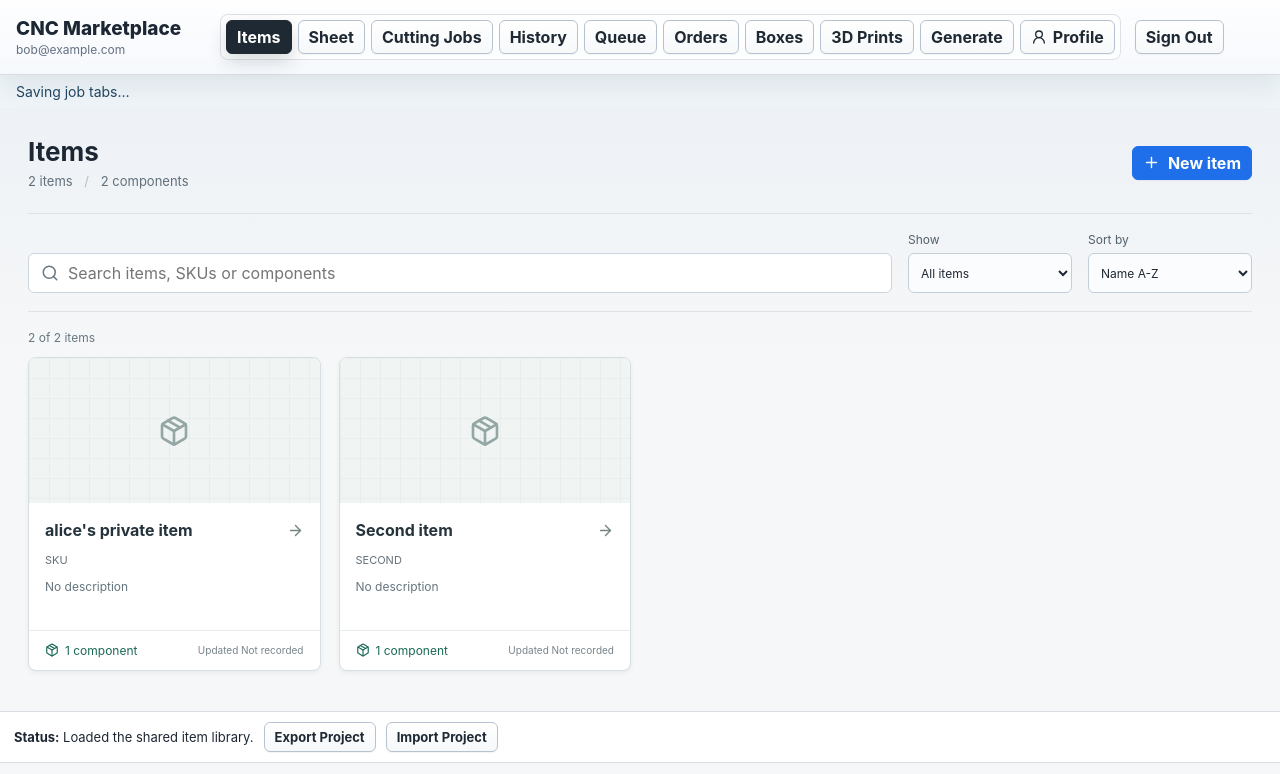
Scenario: account switching › opens and edits a shared item and adds its components to another user’s sheet
The width and height of the screenshot is (1280, 774).
Click the button with aria-label "Open alice's private item" at (174, 431), box [28,357,320,671]
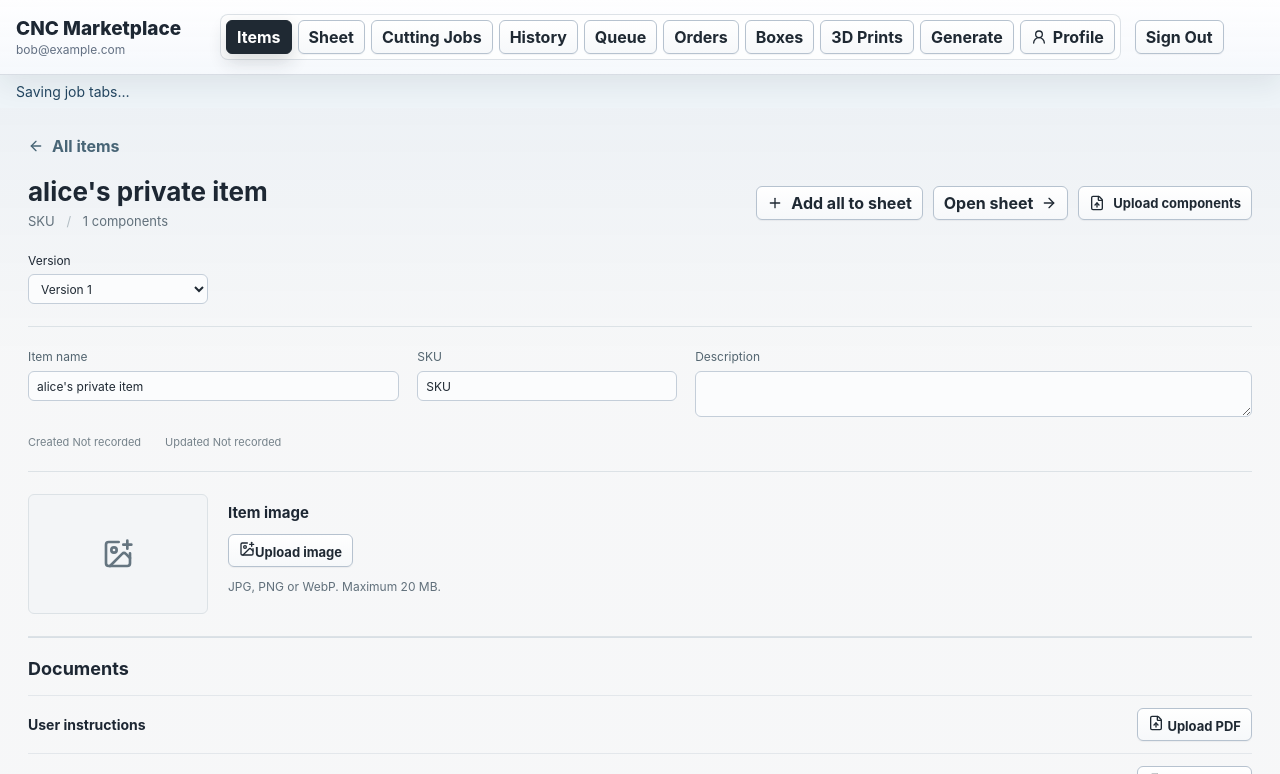
Replace the text in the field labelled "Item name" with "Shared cabinet" at (214, 386), box [28,371,399,401]
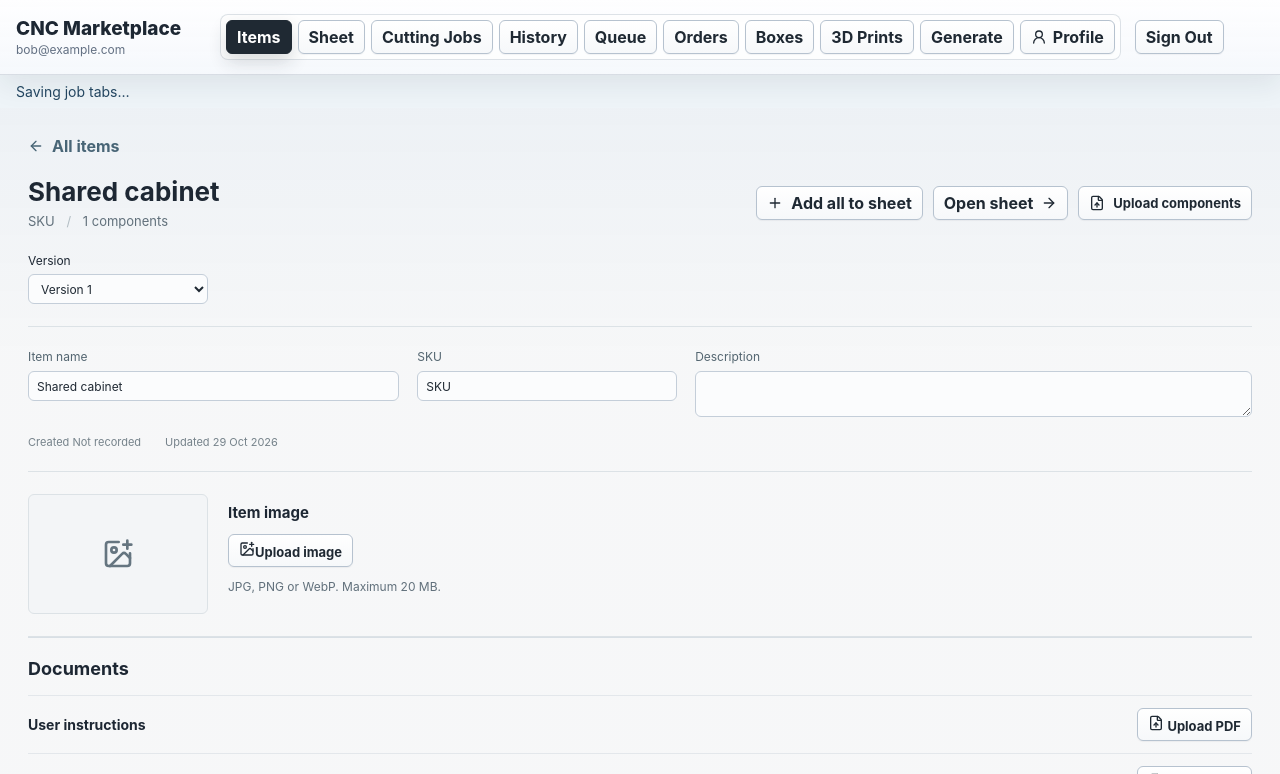
Click the button "Add all to sheet" at (840, 202), box [756,186,923,220]
(page scrolled)
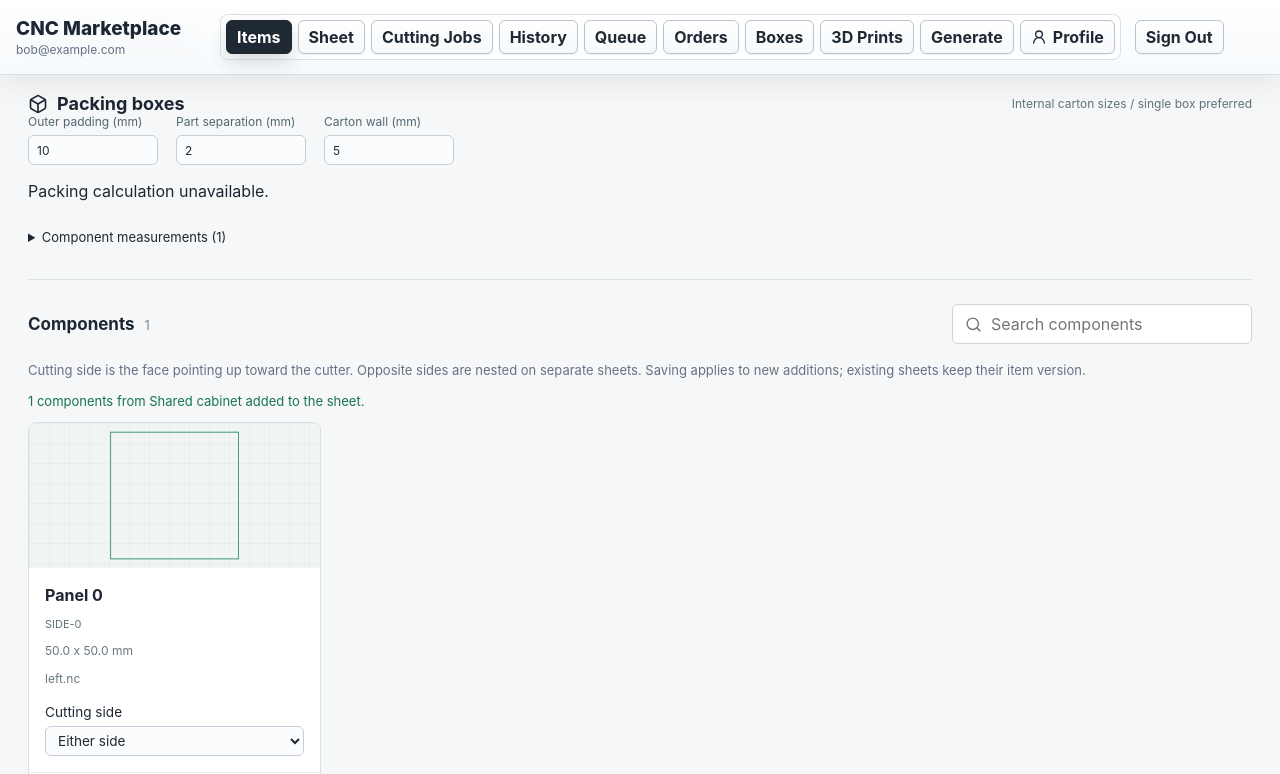
Expected: the text "1 components from Shared cabinet added to the sheet." is shown, [28,392,364,408]
